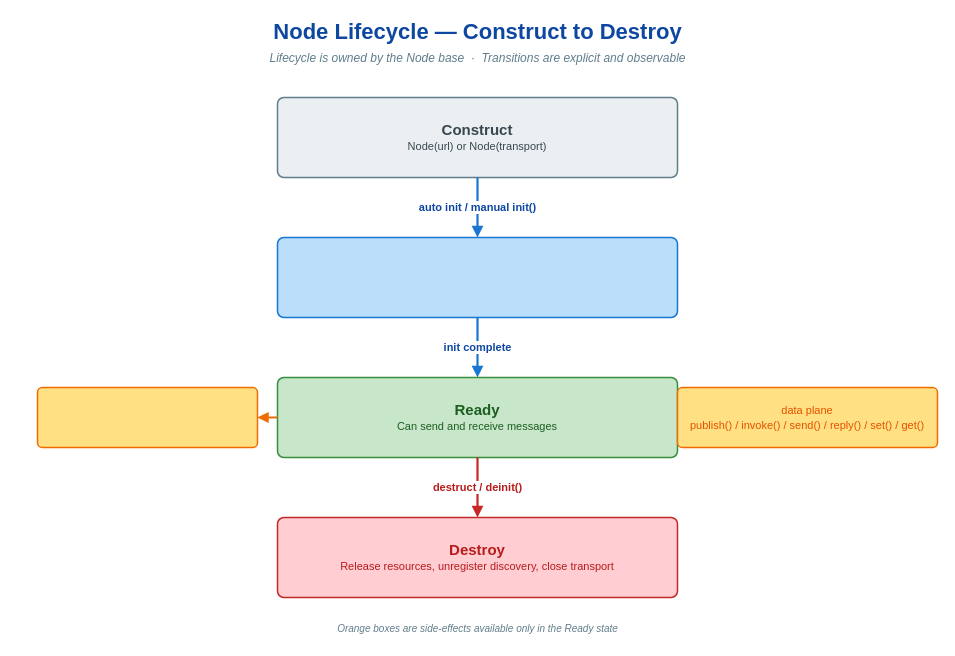
Image size: 955x656. Some labels were removed from this diagram. Each missing label, with the centre of its shape:
"Initializing Parse URL, resolve linked or plugin transport, create channel" goes at [477,277].
"register callback listen() / listen_for_reply()" goes at [147,417].
